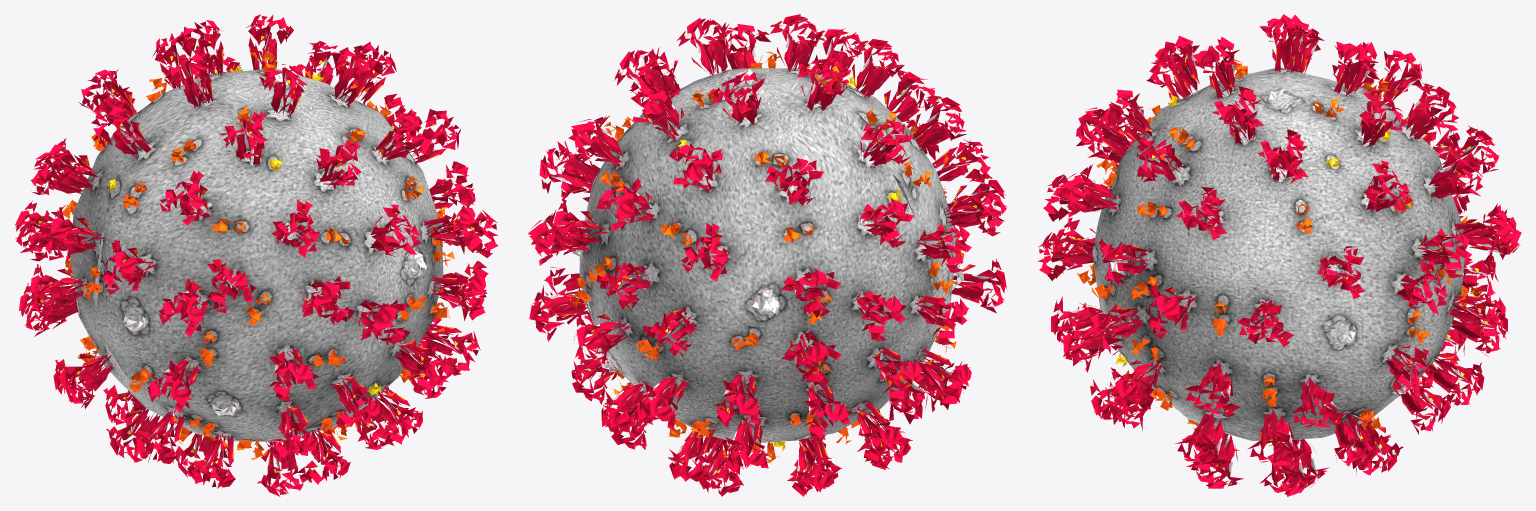
File: virus.glb
The picture shows the model from 3 angles, left to right: view 1: azimuth 30°, elevation 25°; view 2: azimuth 150°, elevation 25°; view 3: azimuth 270°, elevation 25°; orthographic projection.
Parts seen in each view (by area): view 1: Object_2; view 2: Object_2; view 3: Object_2.
Part boxes in pixels (x1,y1,x2,y2): Object_2: [15, 14, 498, 496]; Object_2: [527, 14, 1007, 496]; Object_2: [1038, 14, 1521, 496].
Size of the model in its own units: 1 by 0.9844 by 1.
Materials: 2 (2 with a texture image).
